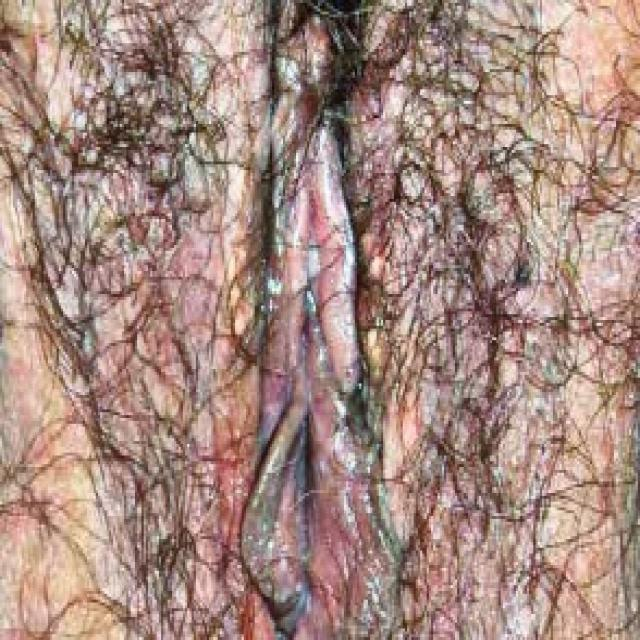Seborrheic-Keratoses-and-other-Benign-Tumors: (188, 4, 483, 640)
